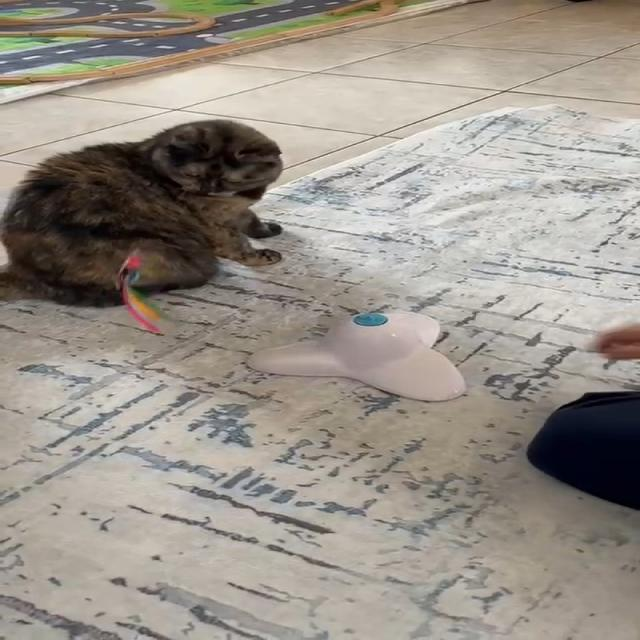authorized: (0, 118, 284, 308)
